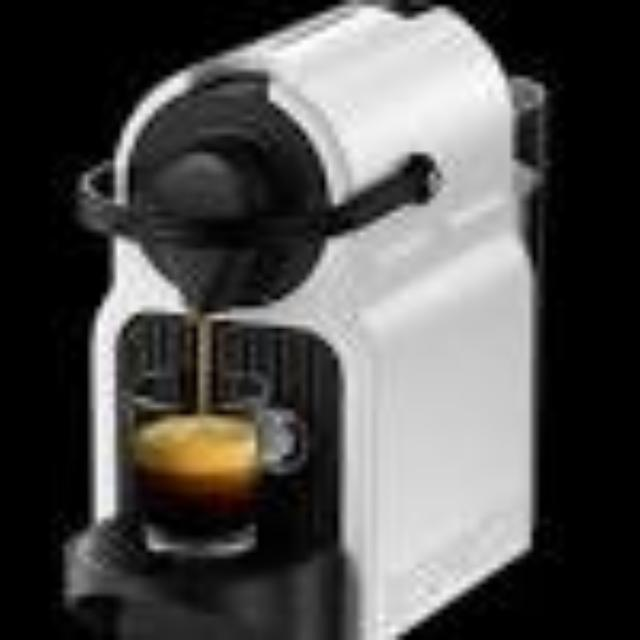Coffee-Machine: (57, 0, 567, 640)
